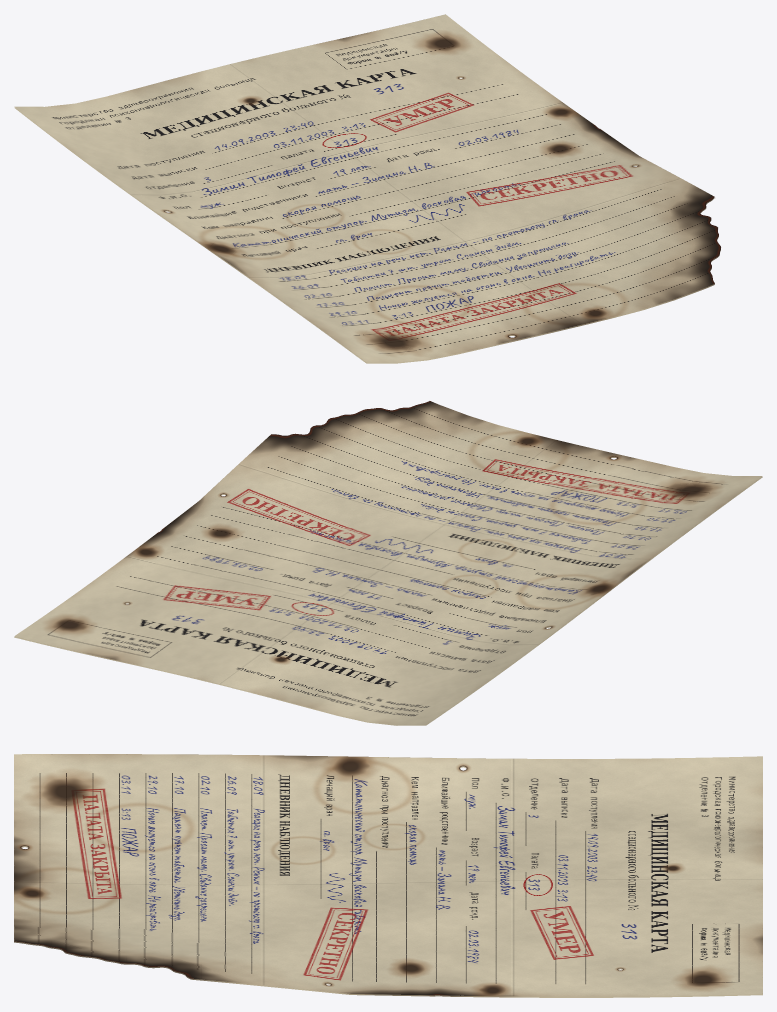
File: MedCard.fbx
3 views of the same model, one above another, from view 1: azimuth 30°, elevation 25°; view 2: azimuth 150°, elevation 25°; view 3: azimuth 270°, elevation 25° (orthographic). The views are drawn at different scales.
Parts seen in each view (by area): view 1: MedCard; view 2: MedCard; view 3: MedCard.
Boxes of the visible parts, <box> form: MedCard: <box>14,14,720,363</box>; MedCard: <box>14,401,762,725</box>; MedCard: <box>14,754,762,997</box>.
Size of the model in its own units: 0.21 by 0.0123 by 0.297.
2 materials, 2 textured.
